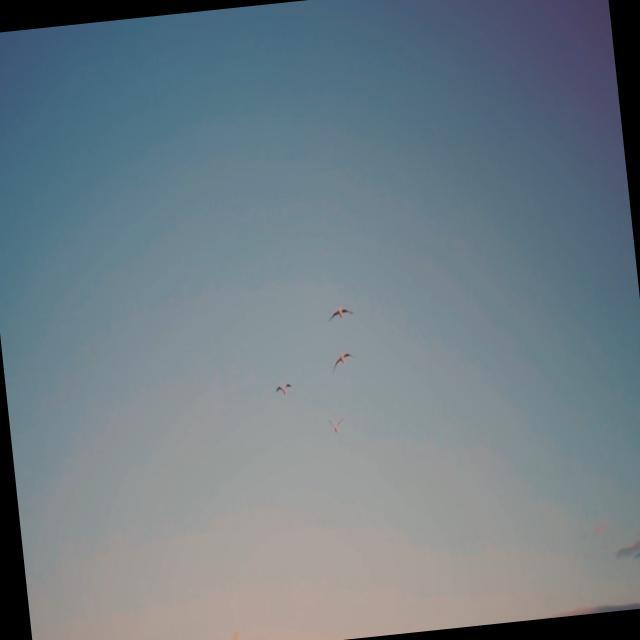bird: (330, 348, 358, 375), (326, 304, 355, 326), (325, 415, 348, 436), (274, 380, 293, 399)
